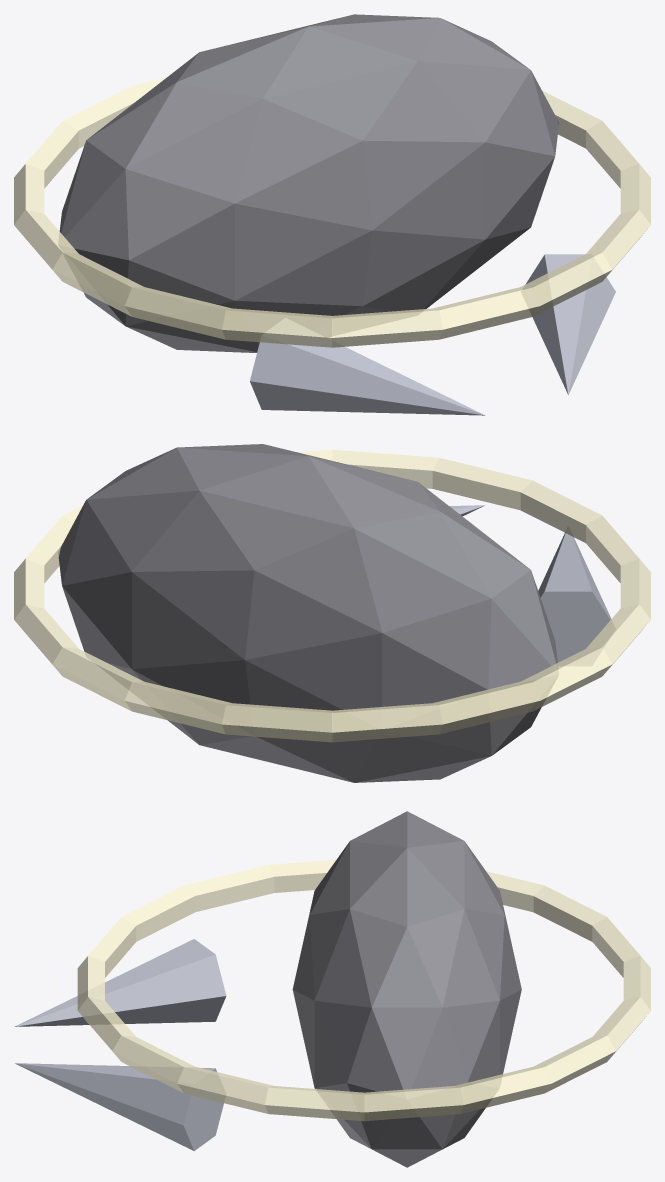
File: 05_creature_skin_element_overlay_5.glb
3 renders of one model, top to bottom at view 1: azimuth 30°, elevation 25°; view 2: azimuth 150°, elevation 25°; view 3: azimuth 270°, elevation 25°, orthographic. The views are drawn at different scales.
Parts seen in each view (by area): view 1: skin_patch_body, element_aura, elemental_horn_l, elemental_horn_r; view 2: skin_patch_body, element_aura, elemental_horn_l; view 3: skin_patch_body, element_aura, elemental_horn_l, elemental_horn_r.
Part boxes in pixels (x1,y1,x2,y2): skin_patch_body: [58, 14, 558, 352]; element_aura: [14, 77, 650, 347]; elemental_horn_l: [250, 318, 485, 415]; elemental_horn_r: [521, 254, 615, 394]; skin_patch_body: [58, 444, 558, 782]; element_aura: [14, 449, 650, 742]; elemental_horn_l: [538, 526, 615, 665]; skin_patch_body: [292, 811, 521, 1167]; element_aura: [77, 860, 650, 1121]; elemental_horn_l: [14, 939, 226, 1026]; elemental_horn_r: [15, 1063, 225, 1150].
Size of the model in its own units: 0.95 by 0.51 by 1.04.
